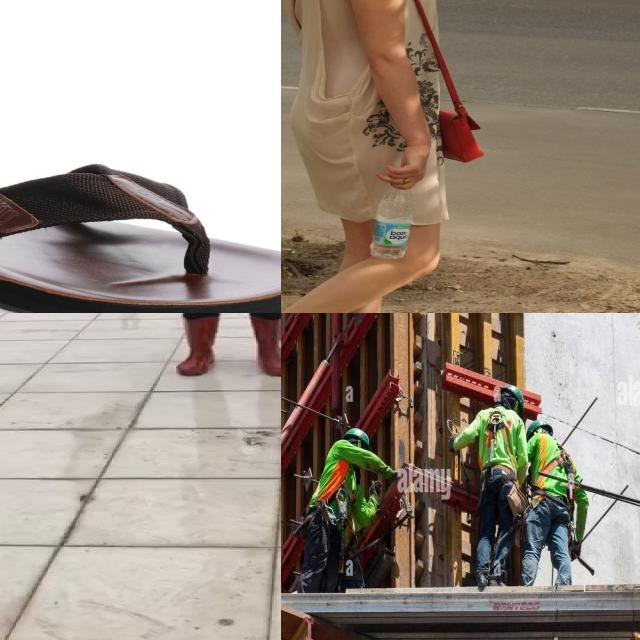Harness: (314, 442, 366, 568), (472, 407, 520, 512), (534, 432, 576, 536)
Sandals: (0, 161, 281, 313)
boots: (176, 315, 222, 376), (247, 313, 281, 379)
